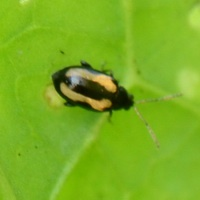insect: (52, 61, 181, 148)
